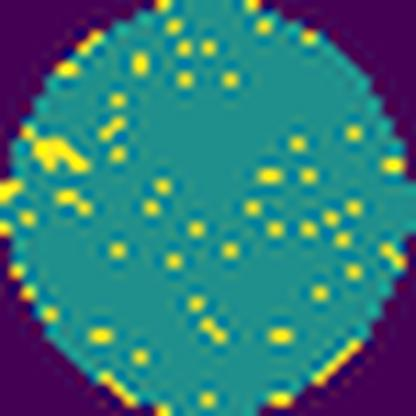Loc: (29, 134, 91, 178)
